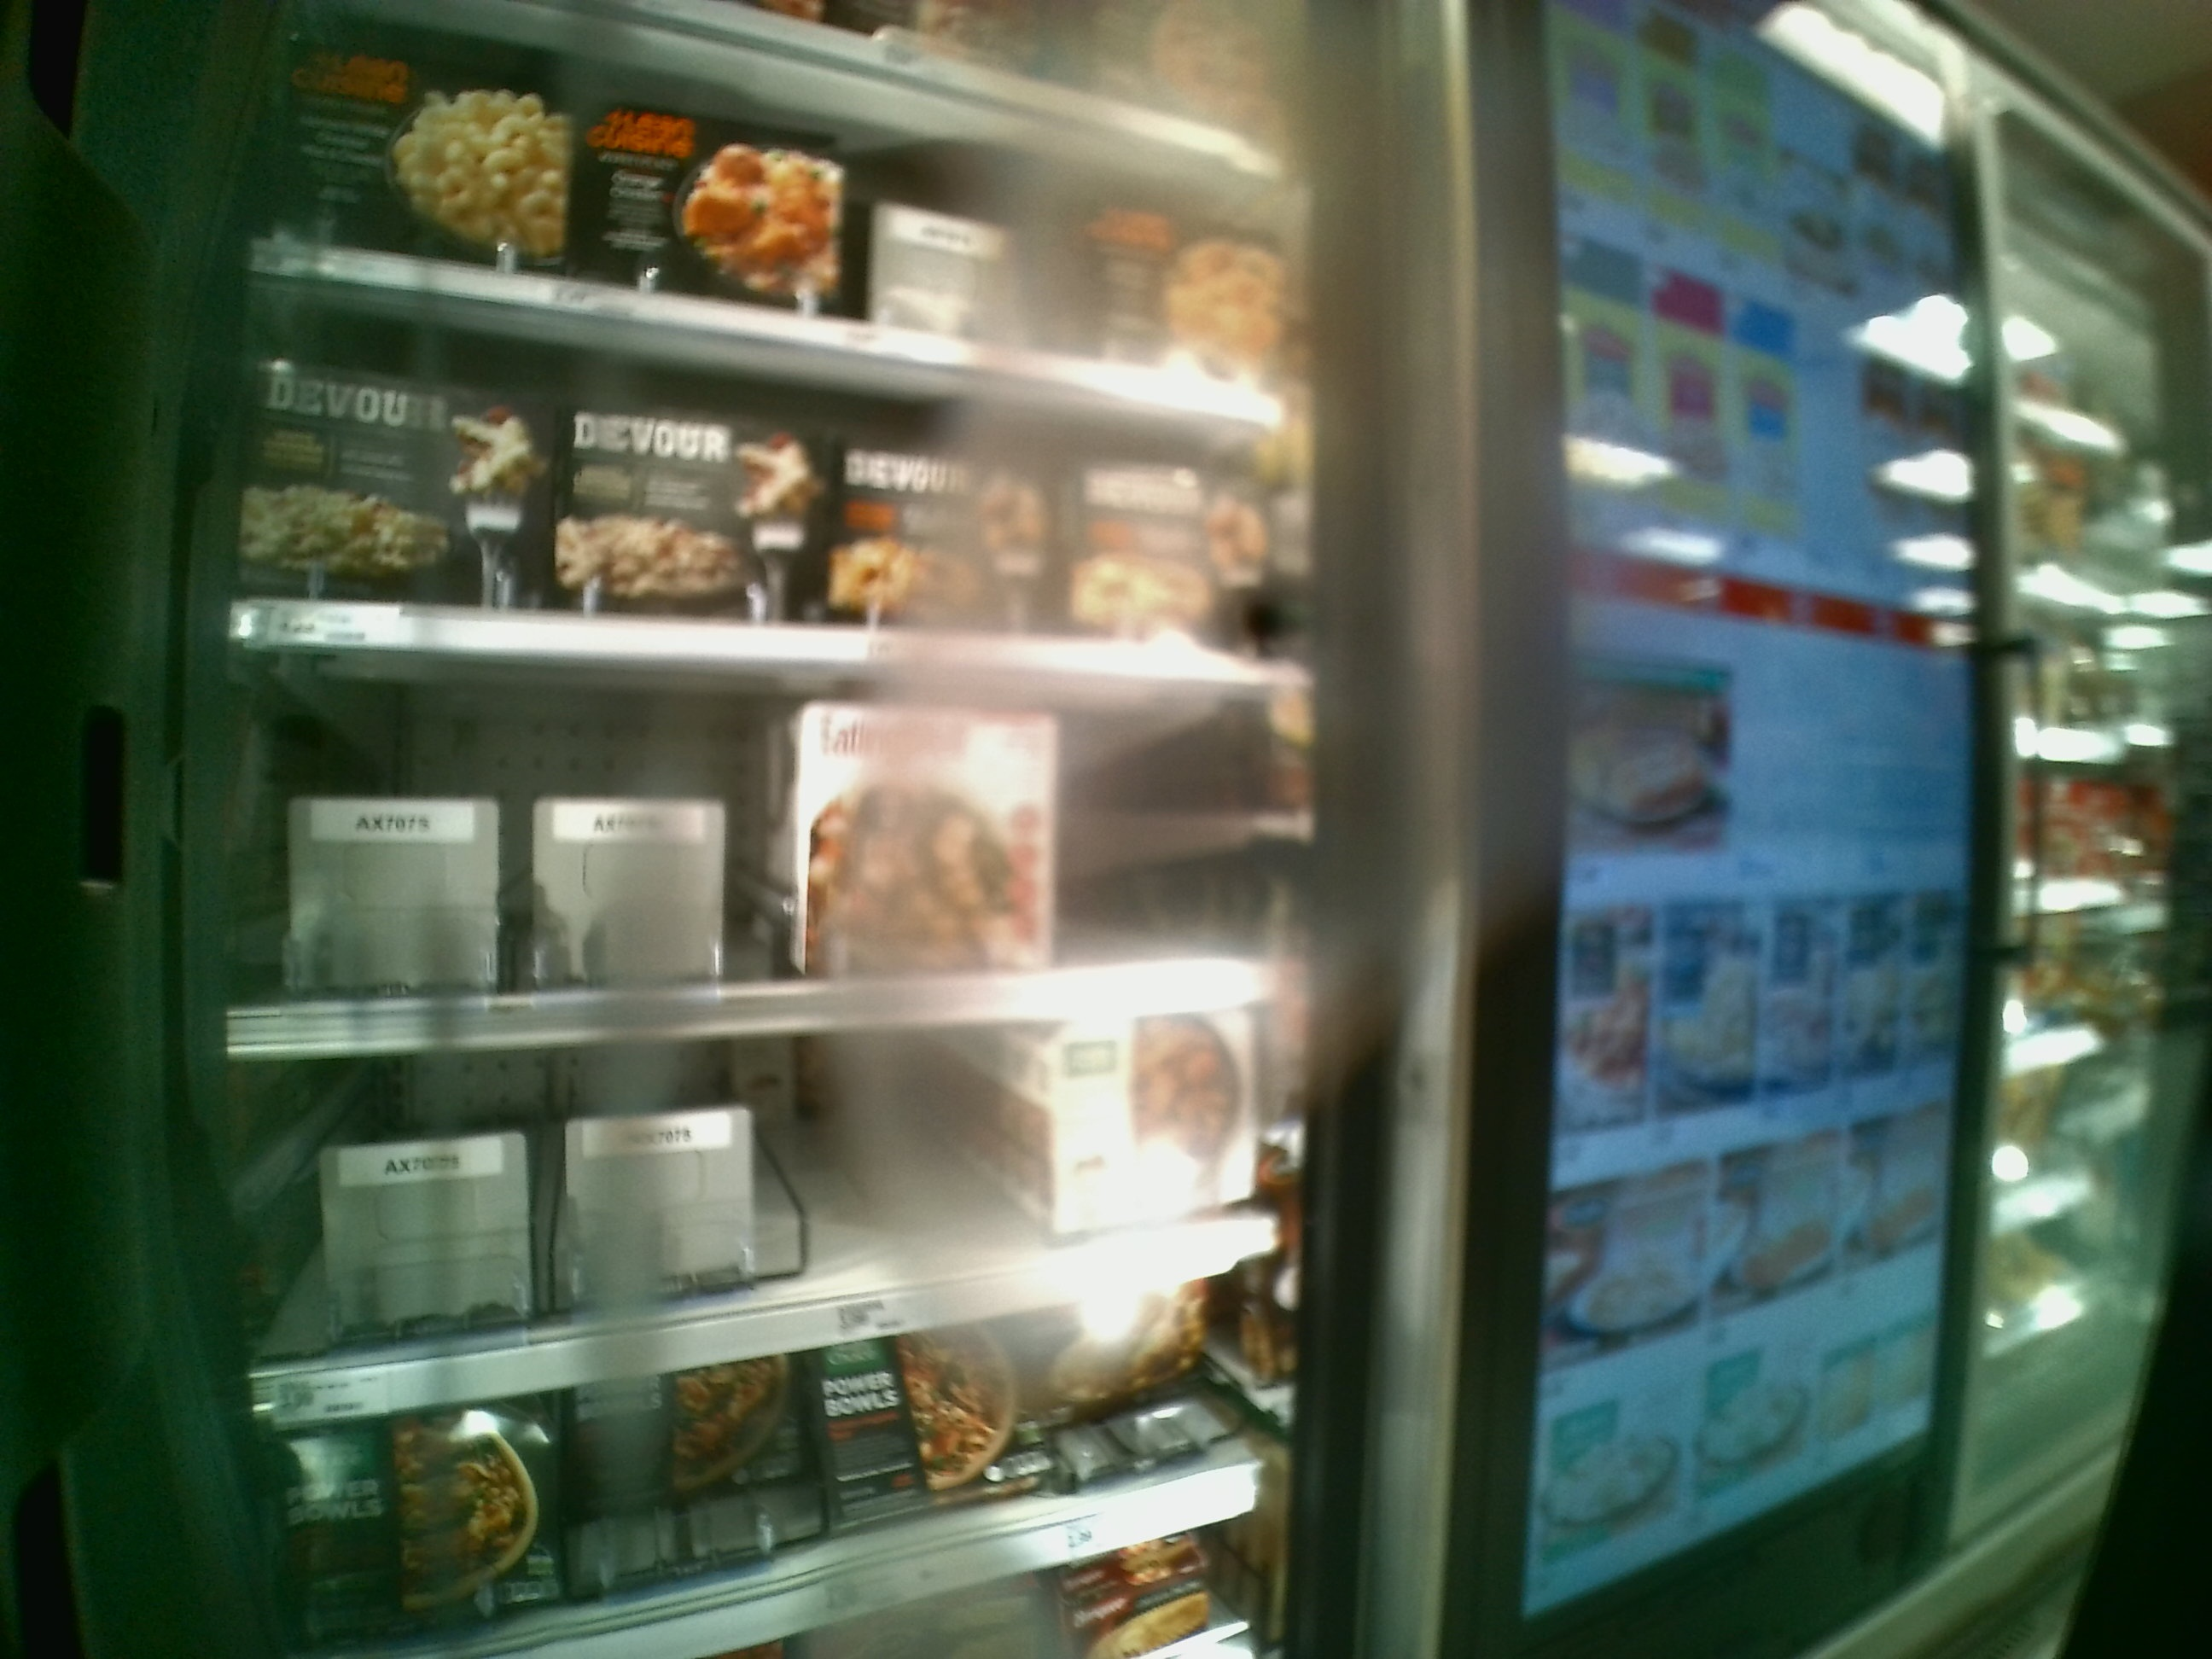Shelf: (221, 638, 1318, 1054)
